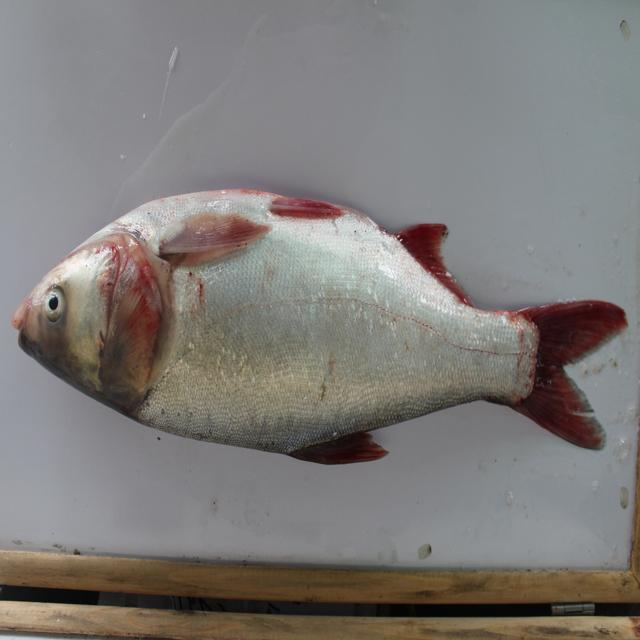Silver Carp: (7, 181, 630, 469)
